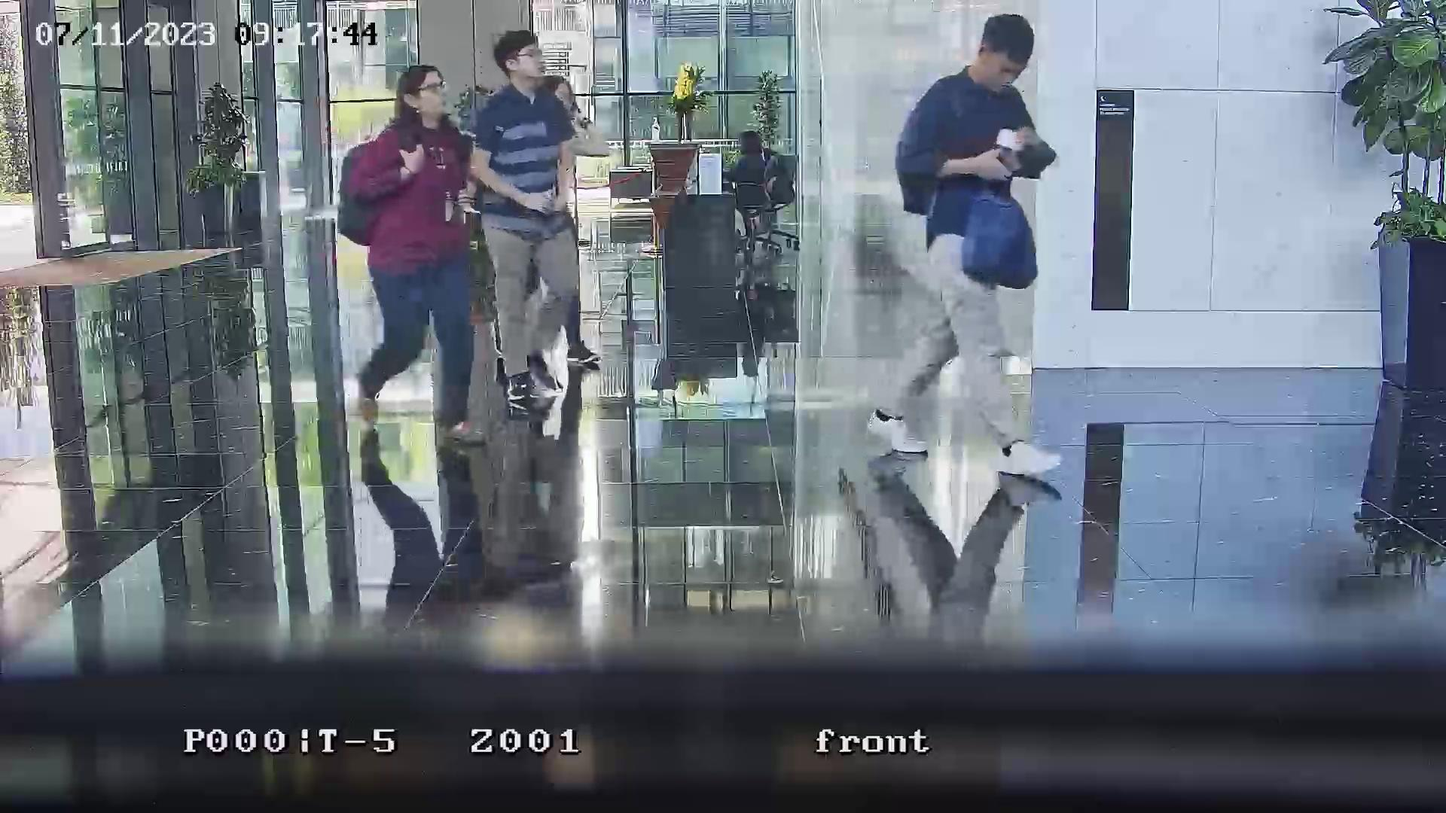person: (888, 12, 1059, 455), (339, 62, 488, 446), (468, 29, 599, 419), (727, 129, 772, 207)
